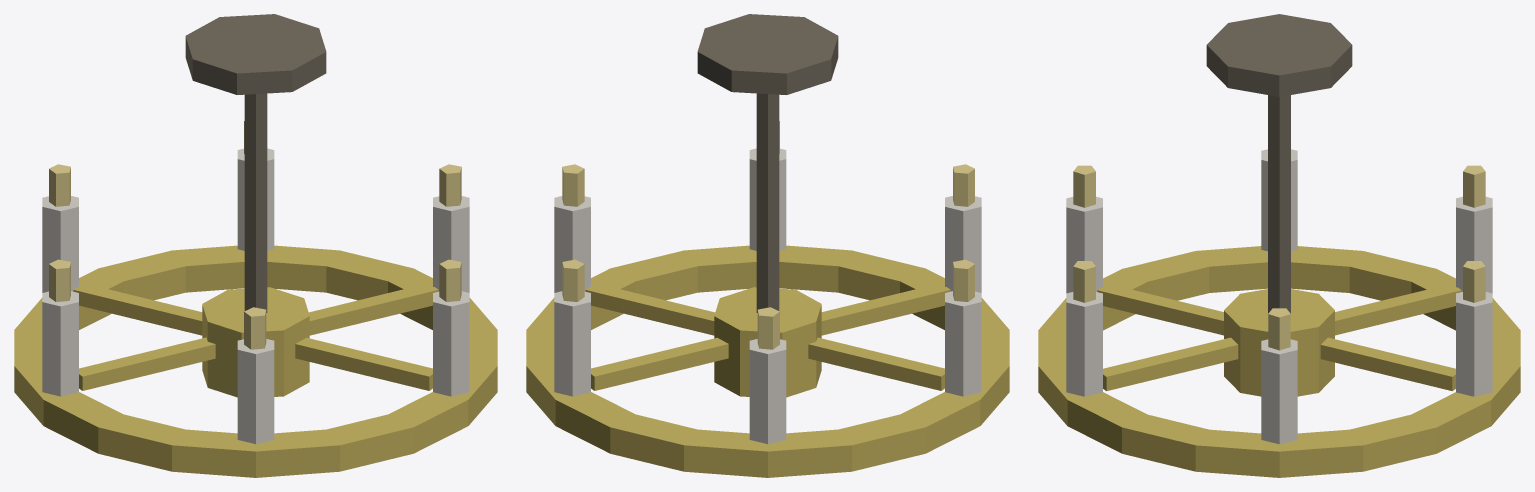
Rendered from chandelier.glb.
The picture shows the model from 3 angles, left to right: view 1: azimuth 30°, elevation 25°; view 2: azimuth 150°, elevation 25°; view 3: azimuth 270°, elevation 25°; orthographic projection.
Visible parts, largest first — view 1: geometry_0; view 2: geometry_0; view 3: geometry_0.
Part boxes in pixels (x1,y1,x2,y2): geometry_0: (14, 14, 497, 477); geometry_0: (526, 14, 1009, 477); geometry_0: (1038, 14, 1520, 477).
Bounding box in the file's own units: 0.372 × 0.2765 × 0.3644.
